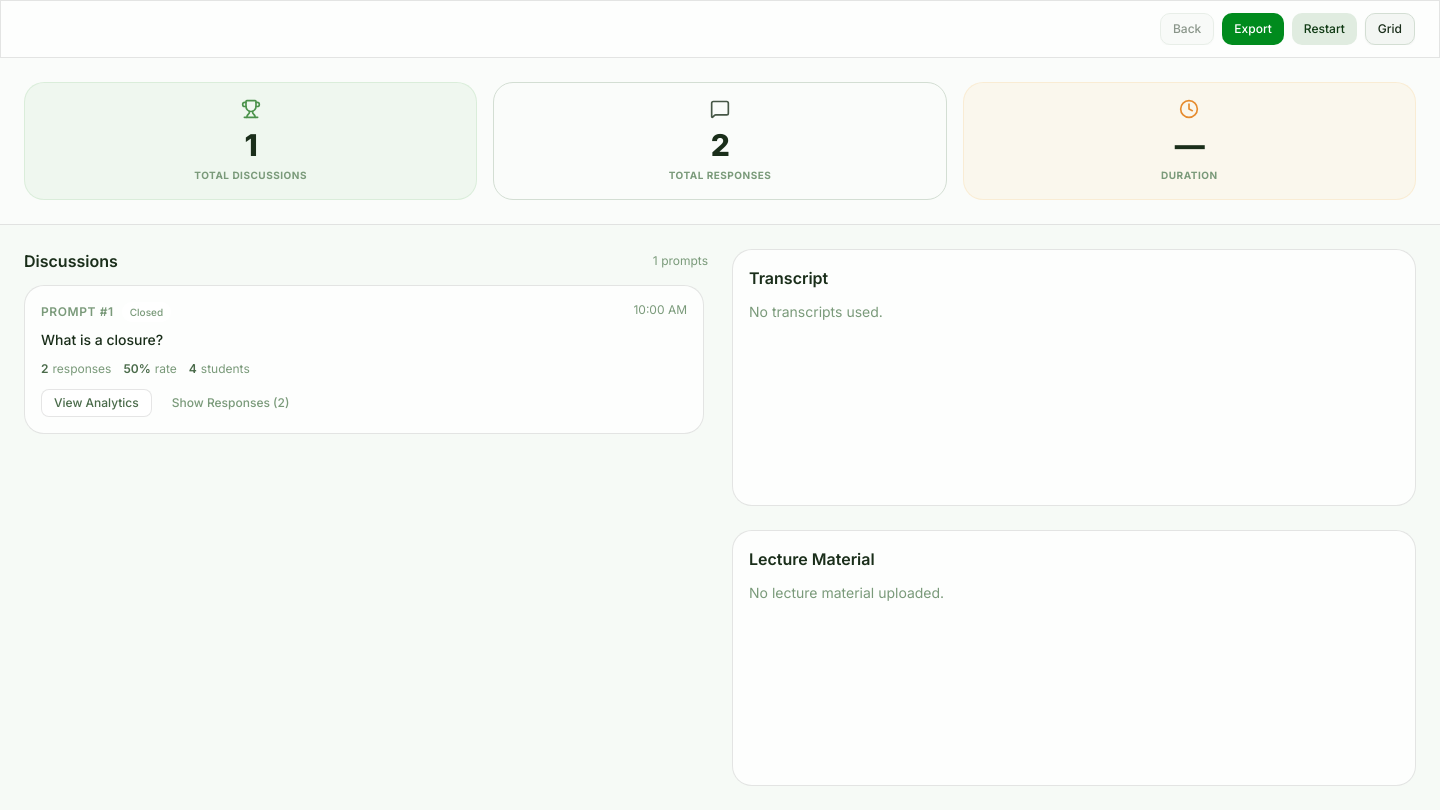
Scenario: [US 1.39] Ended view response list › [AT3] success: clicking "Show Responses" reveals responses in sequential list
Click the button "Show Responses (2)" at point(231, 403), box [160,389,301,417]
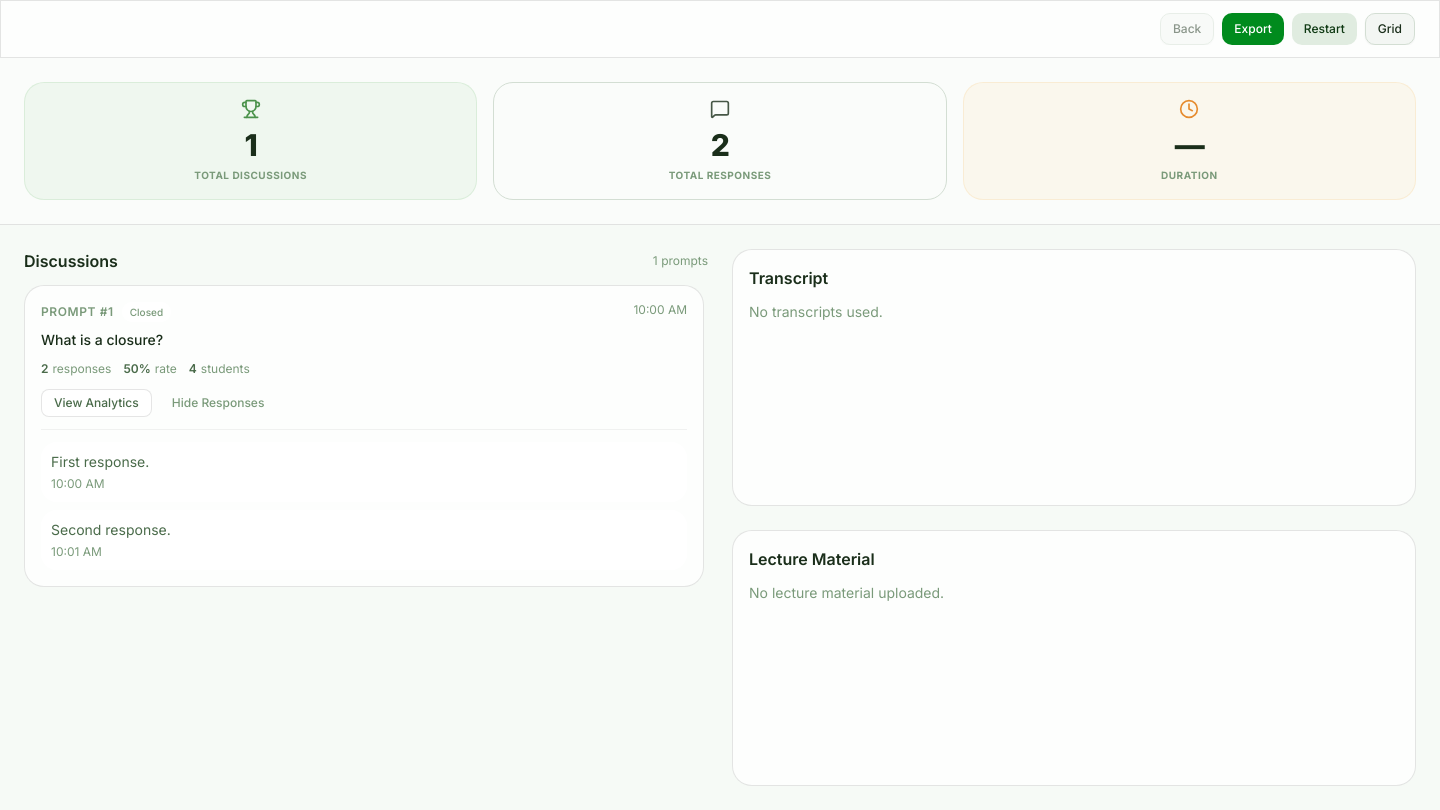
Now the text "First response." is shown, box [51,453,149,470]
Now the text "Second response." is shown, box [51,521,171,538]
